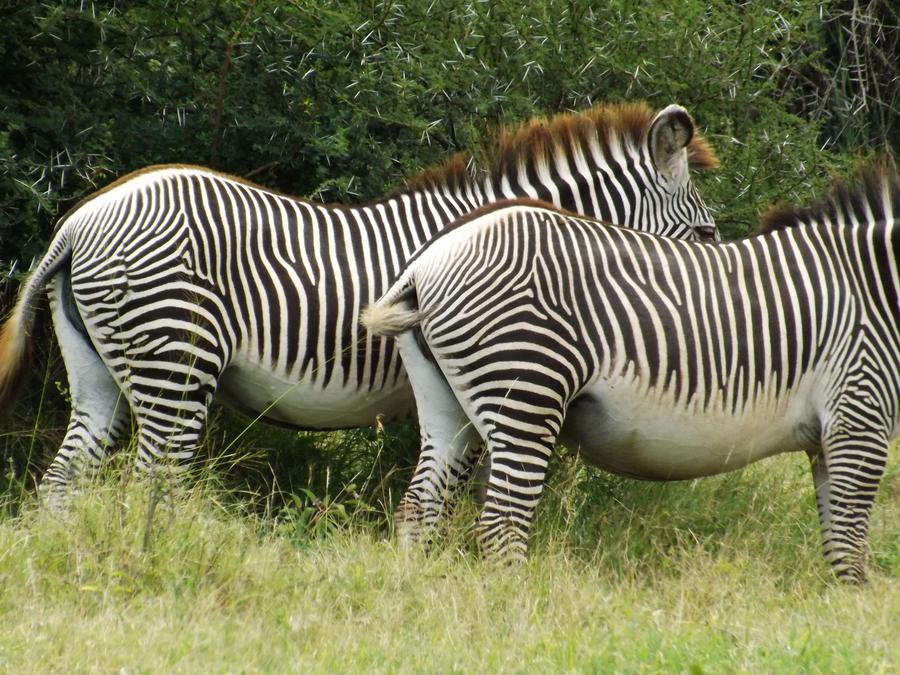zebra_grevys: (459, 221, 886, 448)
